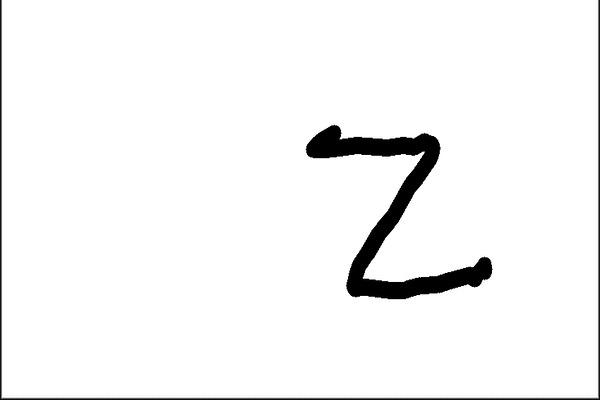Z: (293, 116, 510, 300)
